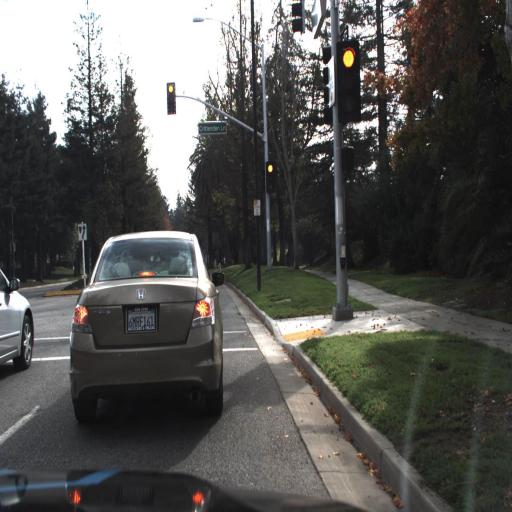car: (66, 225, 226, 425), (0, 248, 37, 373)
trafficLight-Red: (334, 34, 363, 126), (264, 158, 277, 194), (166, 80, 178, 114)
